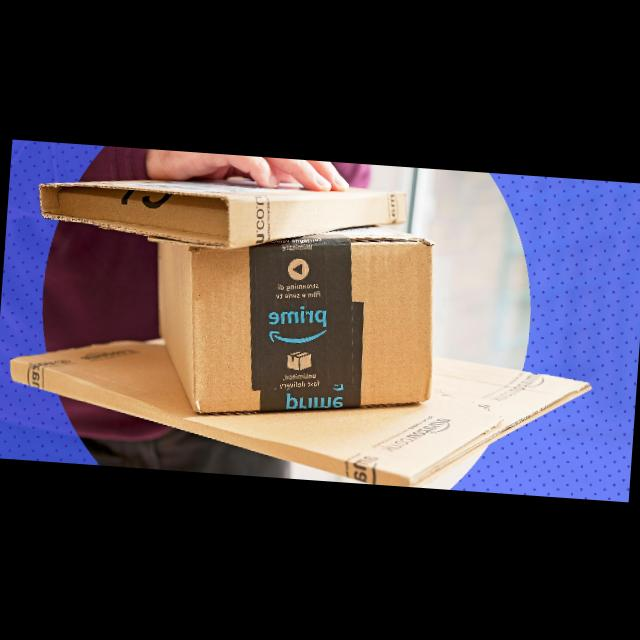box: (138, 213, 442, 431), (34, 161, 408, 263)
